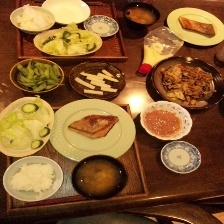rice: (5, 162, 59, 197)
